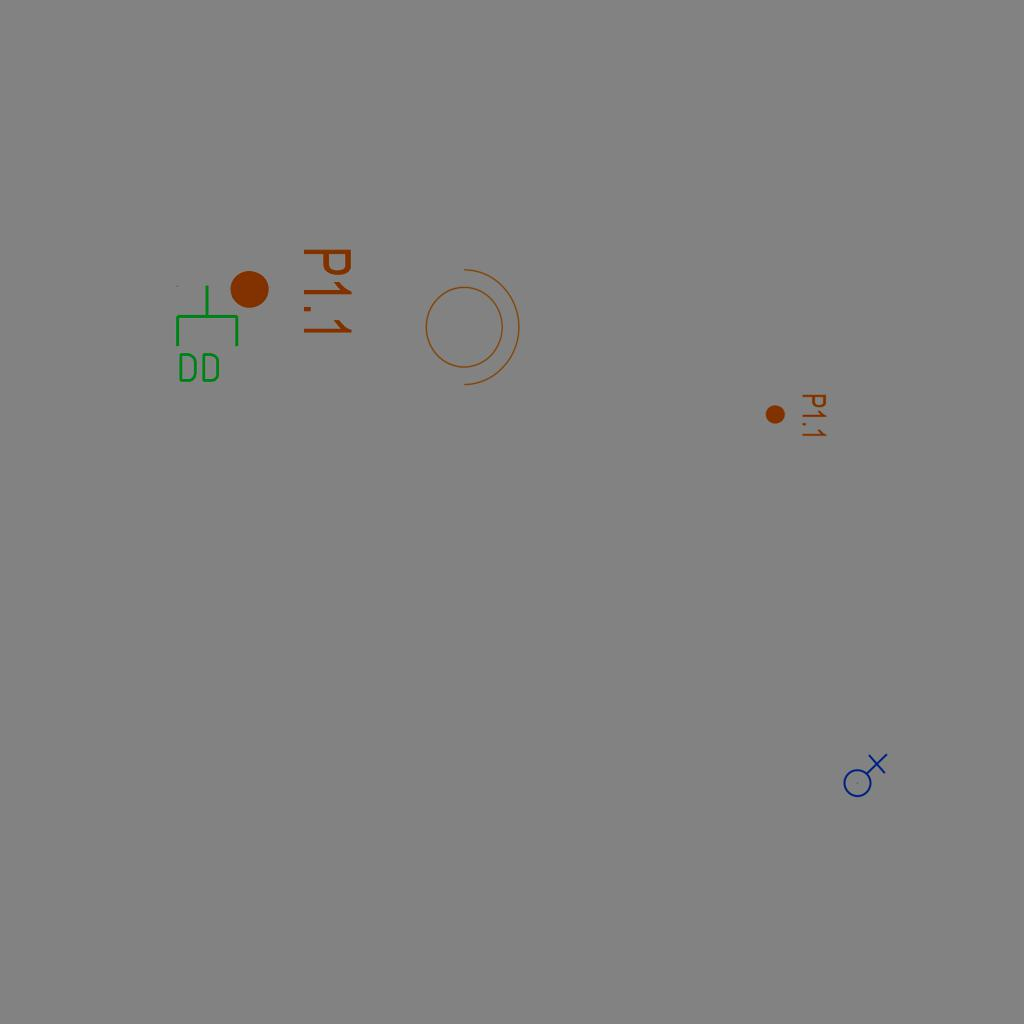Datenanschluss_zweifach: (172, 283, 241, 386)
Downlight_LED_Einbauleuchten_Flur: (227, 246, 355, 339), (764, 393, 828, 439)
Elektroanschluss_allgemein_230V_Geraeteanschlussdose_230V: (839, 751, 888, 798)
Scheinwerfer_fuer_Alarmbeleuchtung: (413, 258, 525, 390)
